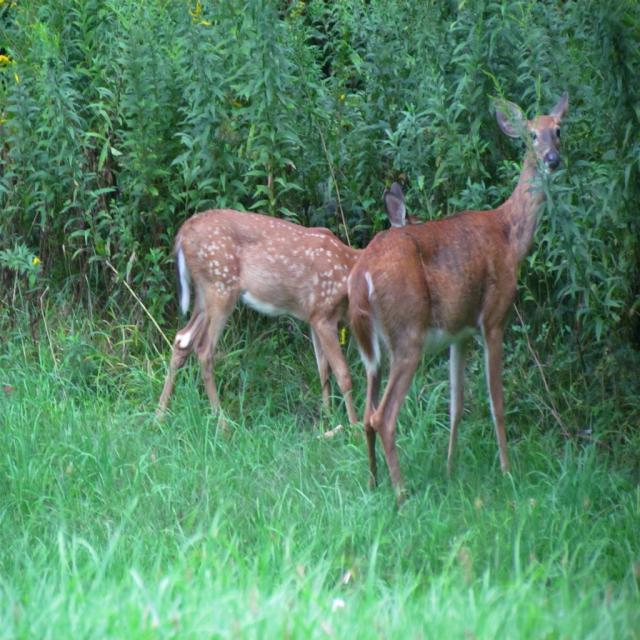Deer: (350, 92, 568, 508), (148, 182, 422, 426)
